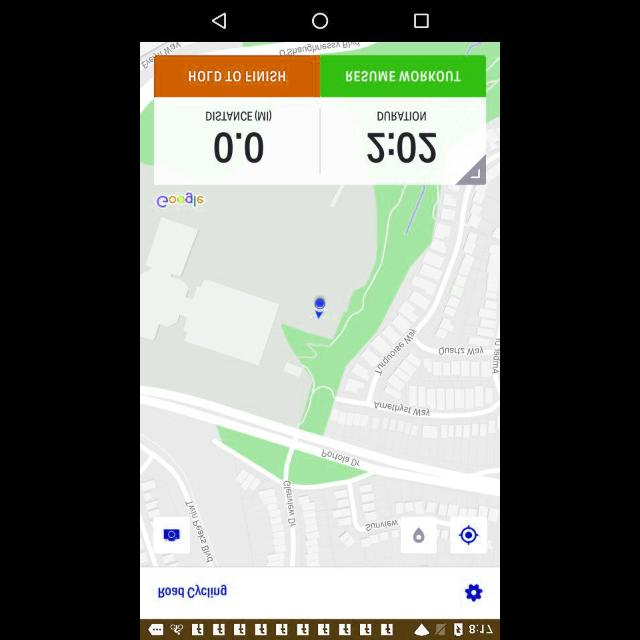icon: (465, 584, 483, 602), (311, 12, 329, 30), (459, 526, 477, 544), (211, 12, 227, 30), (413, 12, 429, 28)
map: (141, 42, 499, 566)
panel: (140, 1, 500, 42)
text: (364, 130, 442, 166), (212, 132, 268, 162), (346, 68, 462, 82), (188, 68, 288, 82), (204, 110, 274, 122), (158, 586, 226, 598), (377, 109, 428, 121)
textbutton: (154, 56, 320, 96), (320, 56, 486, 96)
toolbar: (141, 568, 499, 618)
uppertaskbar: (140, 620, 500, 640)
